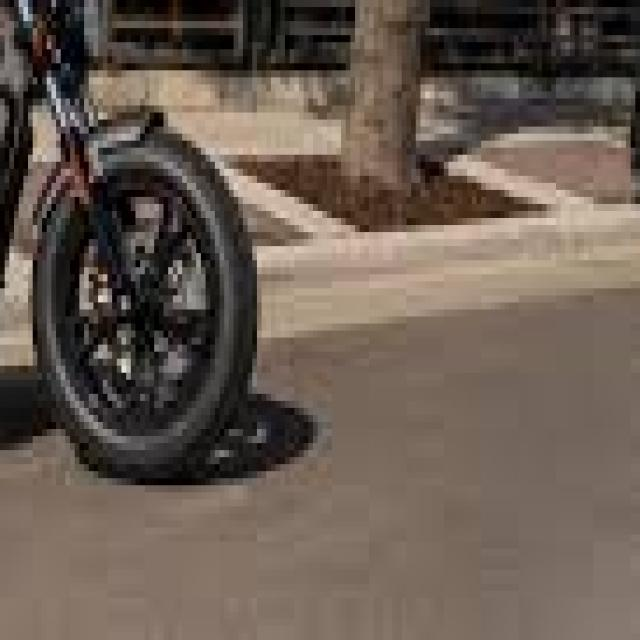bike: (0, 0, 271, 492)
